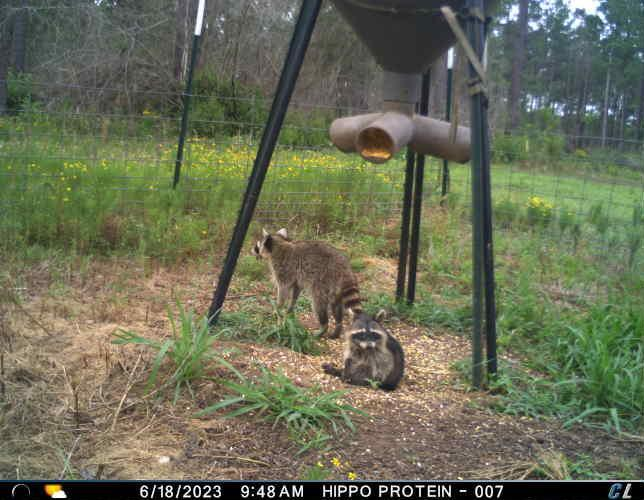Raccoon: (253, 225, 365, 341), (322, 308, 409, 393)
